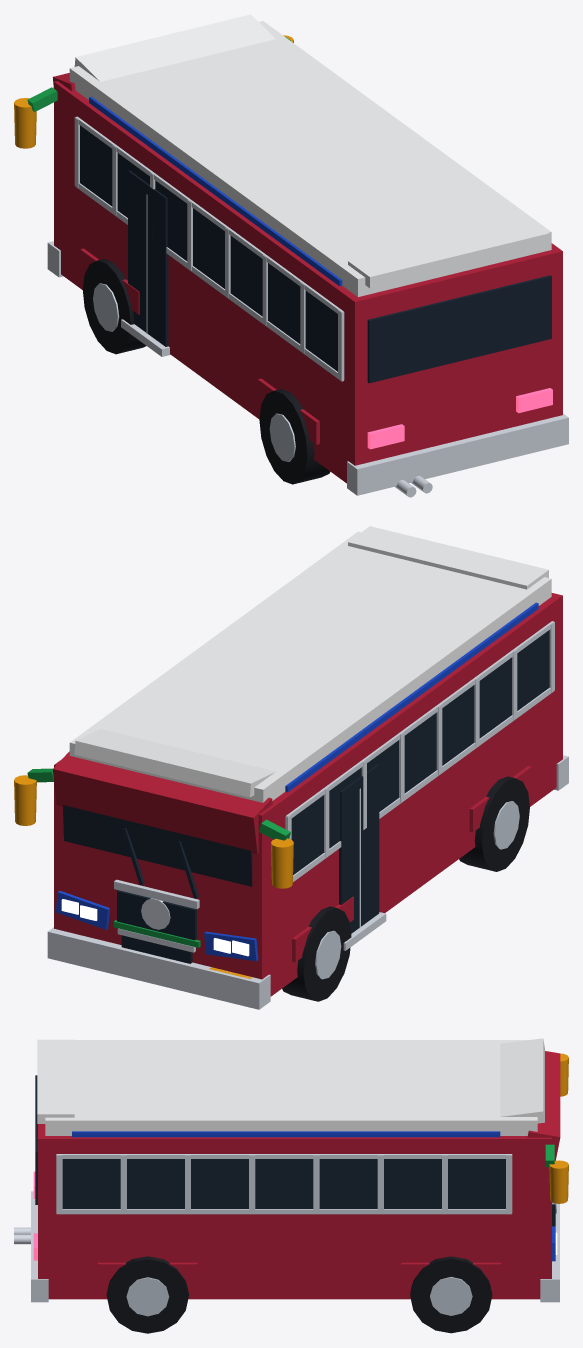
The model's file is rajdhani_bus.glb.
3 renders of one model, top to bottom at view 1: azimuth 30°, elevation 25°; view 2: azimuth 150°, elevation 25°; view 3: azimuth 270°, elevation 25°, orthographic. The views are drawn at different scales.
Visible parts, largest first — view 1: rajdhani_bus; view 2: rajdhani_bus; view 3: rajdhani_bus.
Part boxes in pixels (x1,y1,x2,y2): rajdhani_bus: [14, 14, 568, 497]; rajdhani_bus: [14, 526, 568, 1009]; rajdhani_bus: [14, 1038, 568, 1333].
Bounding box in the file's own units: 3.06 × 2.63 × 6.22.
